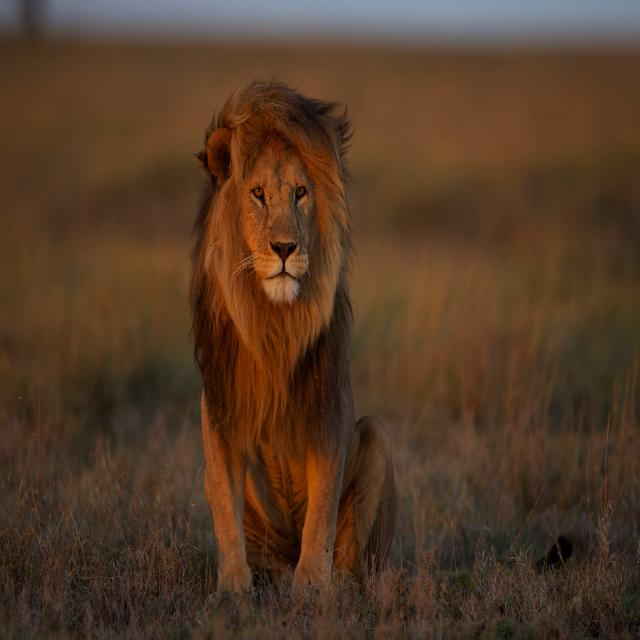lion: (190, 82, 396, 594)
